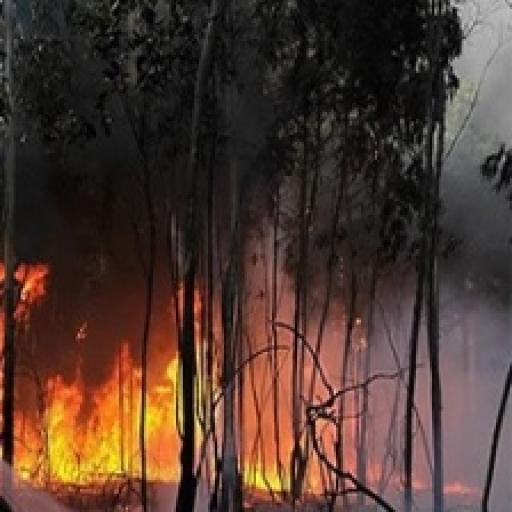fire and smoke: (16, 345, 137, 482), (149, 357, 174, 480)
